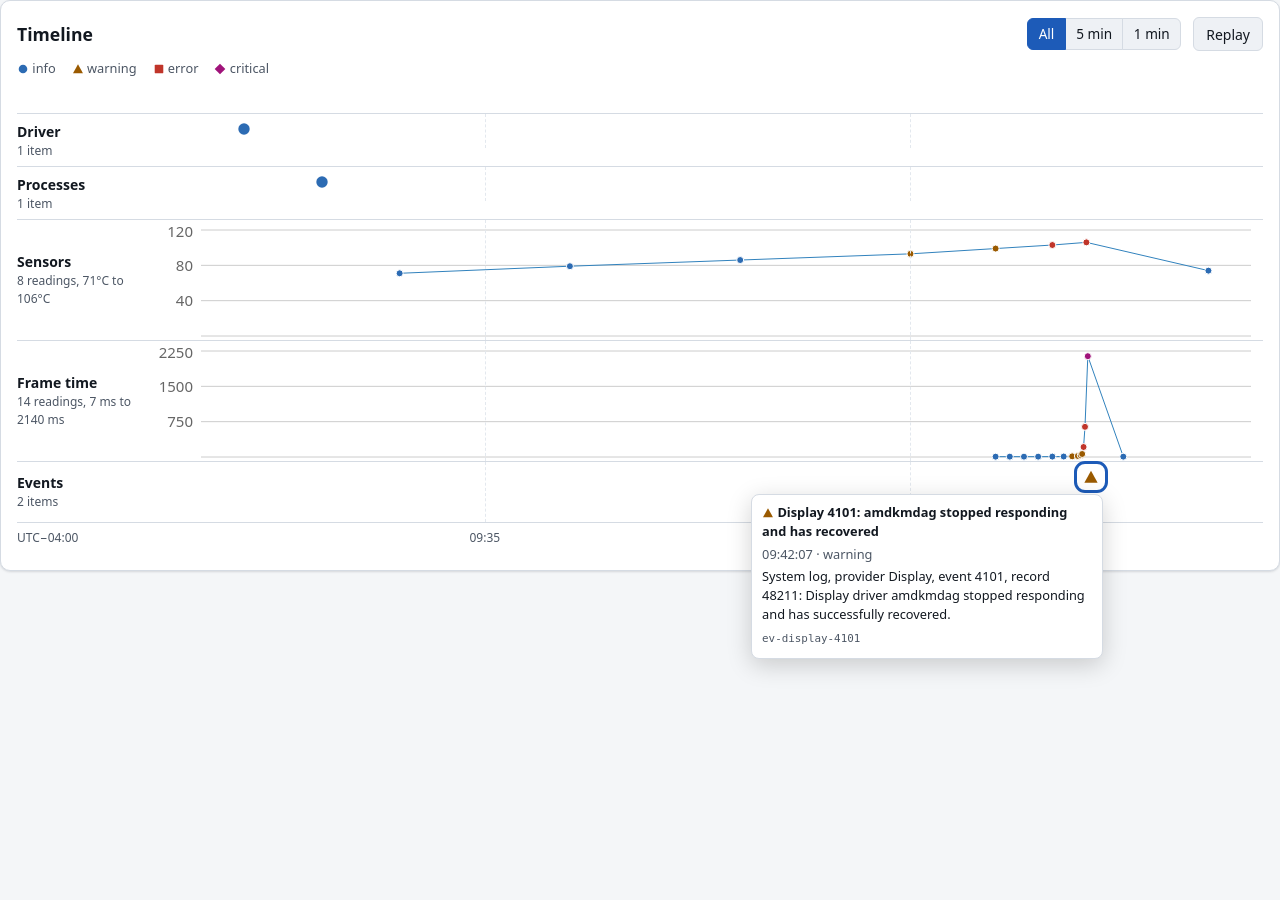
Test: <Timeline> › opens the tooltip on keyboard focus or tap and dismisses it with Escape
Check: the tooltip shows "ev-display-4101", box [762,632,860,645]
Press Escape
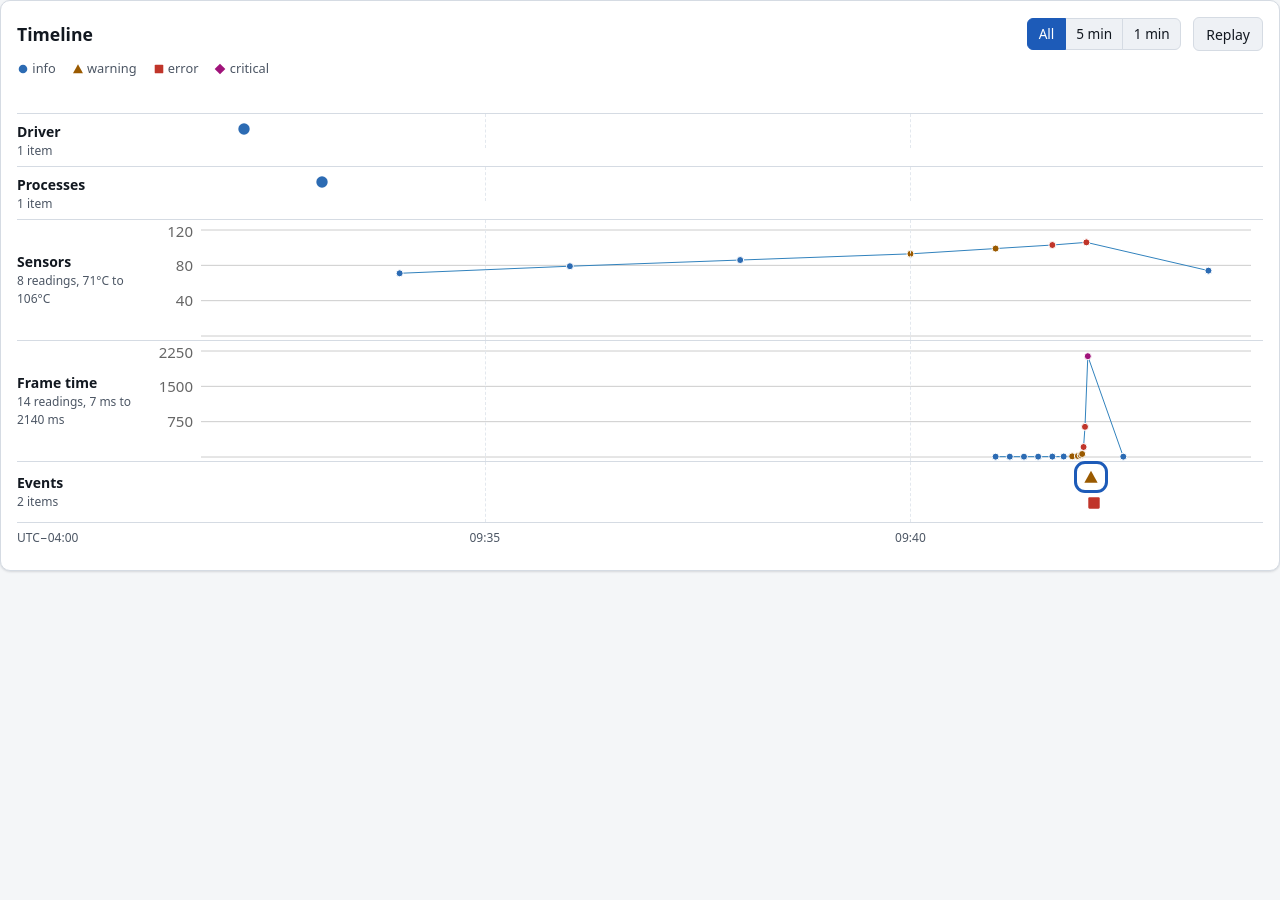
Check: the tooltip is gone
Click the button named "Display 4101: amdkmdag stopped responding and has recovered," at (1091, 477), box [1079,466,1103,488]
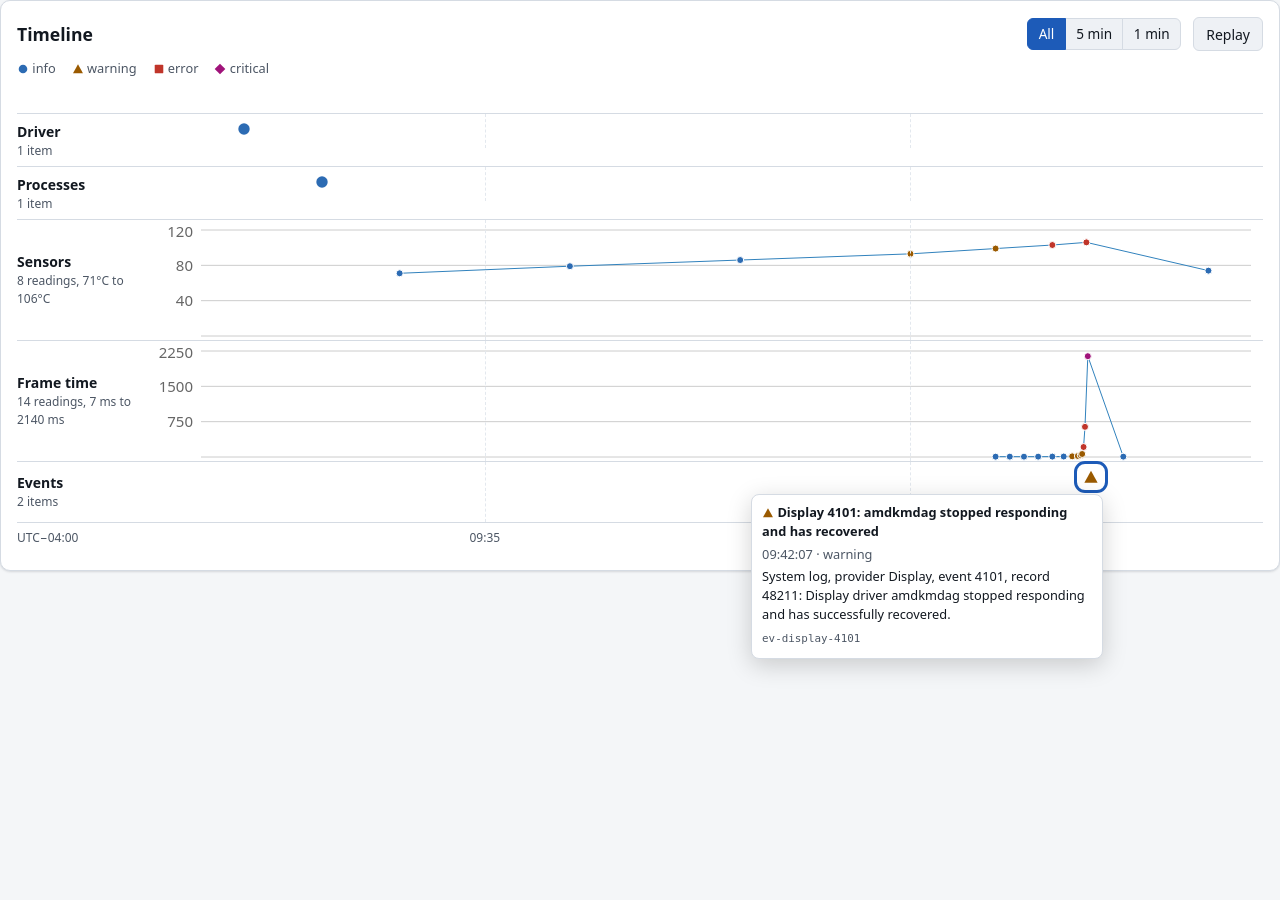
Check: the tooltip shows "ev-display-4101", box [762,632,860,645]
